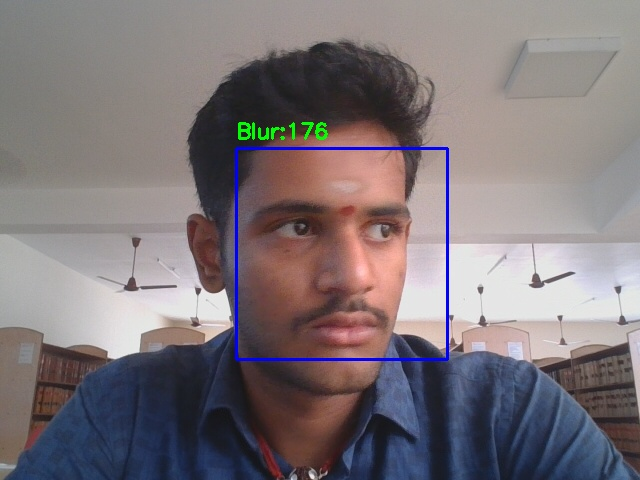real: (236, 148, 447, 359)
